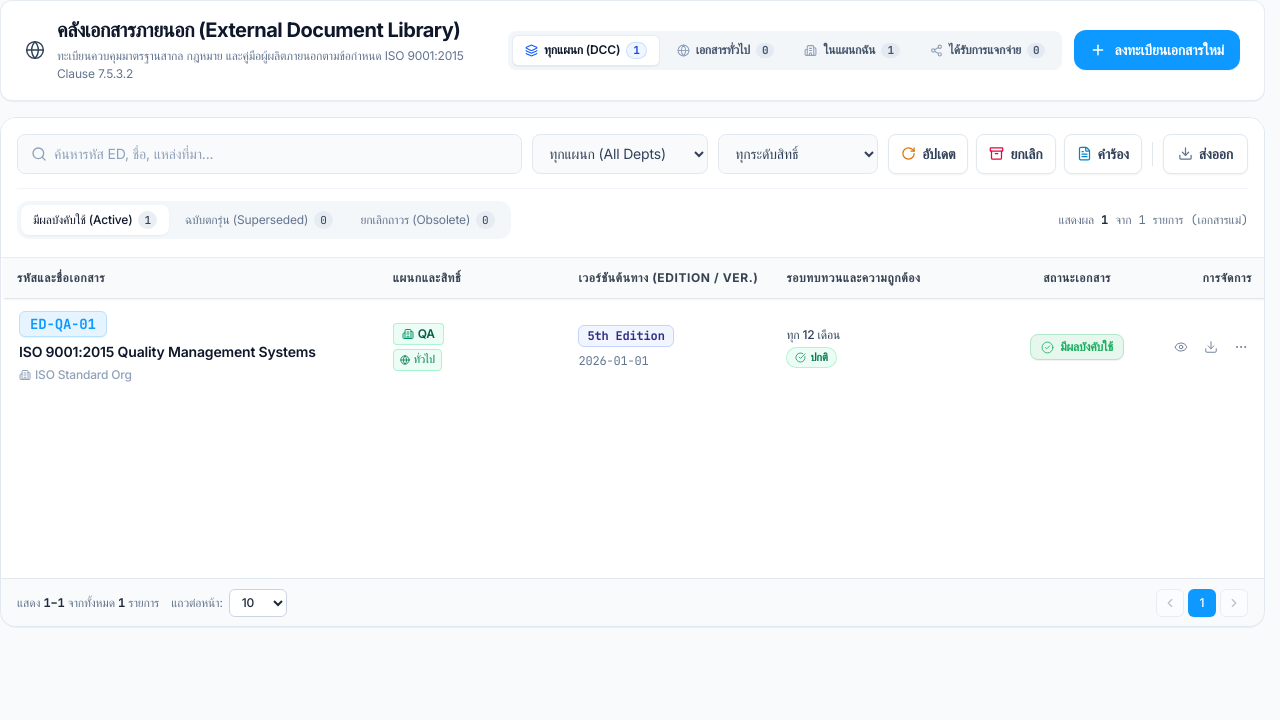
ExternalDocsList Full-Width Layout & Component Structure Tests › 4. Header button "ลงทะเบียนเอกสารภายนอก" opens registration modal
Click the button with aria-label "ลงทะเบียนเอกสารภายนอก": (1157, 50) top-left (1074, 30), bottom-right (1240, 70)
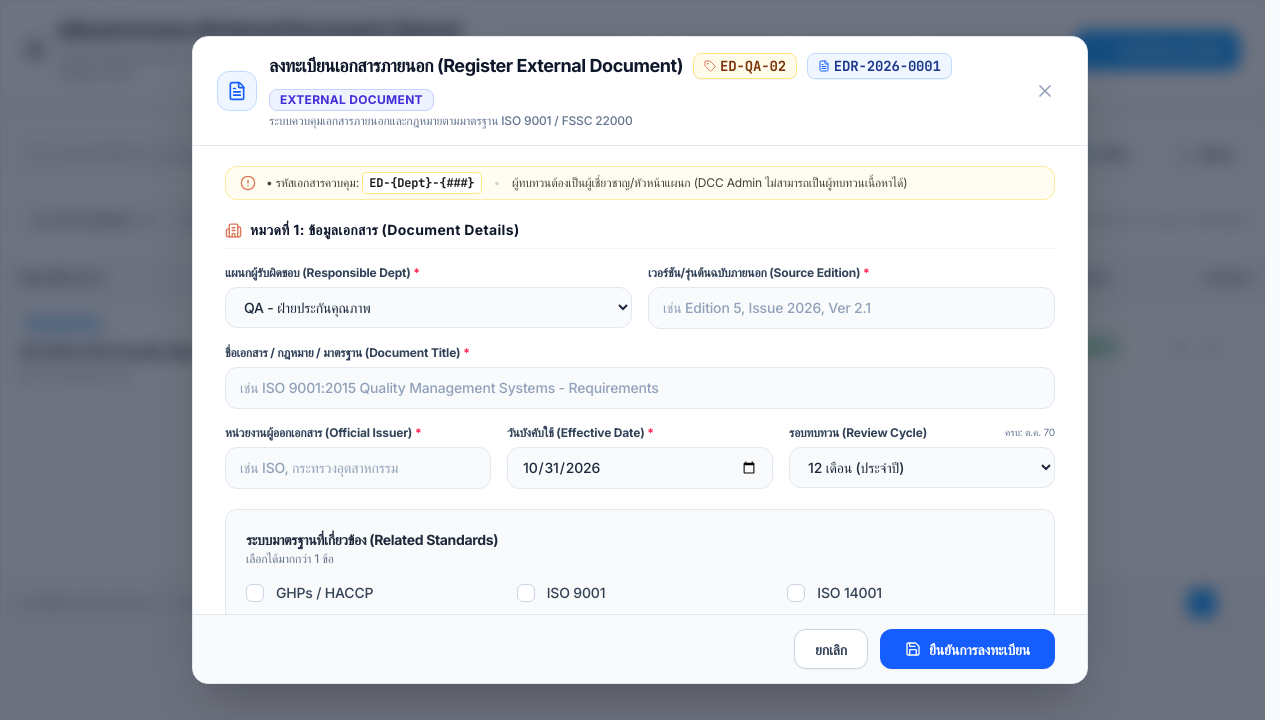
Check: the heading "ลงทะเบียนเอกสารภายนอก (Register External Document)" is shown, box top-left (269, 54), bottom-right (683, 78)
